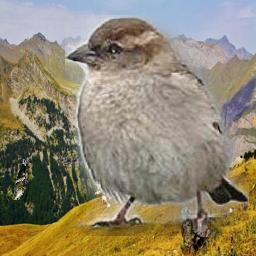Cuckoo: (12, 160, 28, 201)
Sparrow: (65, 16, 249, 237)
